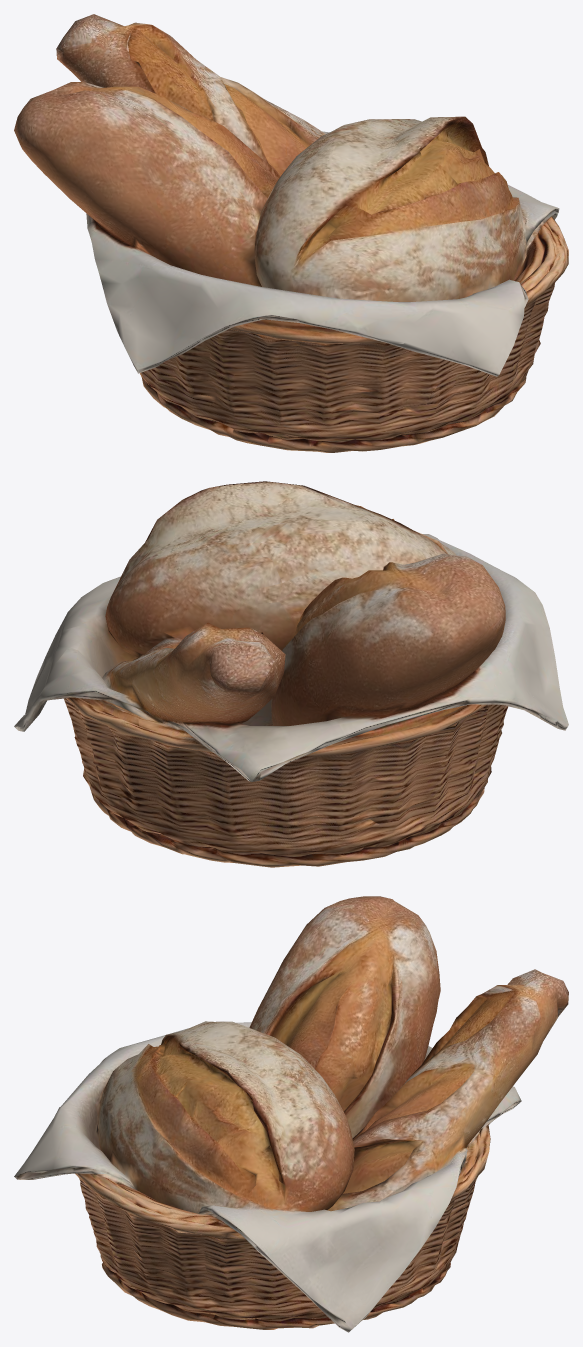
File: k_basket.glb
3 views of the same model, one above another, from view 1: azimuth 30°, elevation 25°; view 2: azimuth 150°, elevation 25°; view 3: azimuth 270°, elevation 25° (orthographic). The views are drawn at different scales.
Parts seen in each view (by area): view 1: tripo_node_b1a8e5ae-a133-46cb-9a4c-32b84faee838; view 2: tripo_node_b1a8e5ae-a133-46cb-9a4c-32b84faee838; view 3: tripo_node_b1a8e5ae-a133-46cb-9a4c-32b84faee838.
Boxes of the visible parts, box(x1,y1,x2,y2) form: tripo_node_b1a8e5ae-a133-46cb-9a4c-32b84faee838: box(14, 14, 568, 452); tripo_node_b1a8e5ae-a133-46cb-9a4c-32b84faee838: box(14, 481, 568, 867); tripo_node_b1a8e5ae-a133-46cb-9a4c-32b84faee838: box(14, 896, 568, 1332).
Bounding box in the file's own units: 0.8843 × 0.5185 × 0.9735.
1 material, 1 textured.
